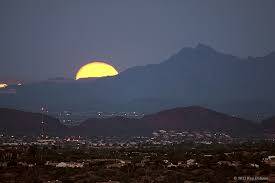moon: (75, 60, 119, 79)
